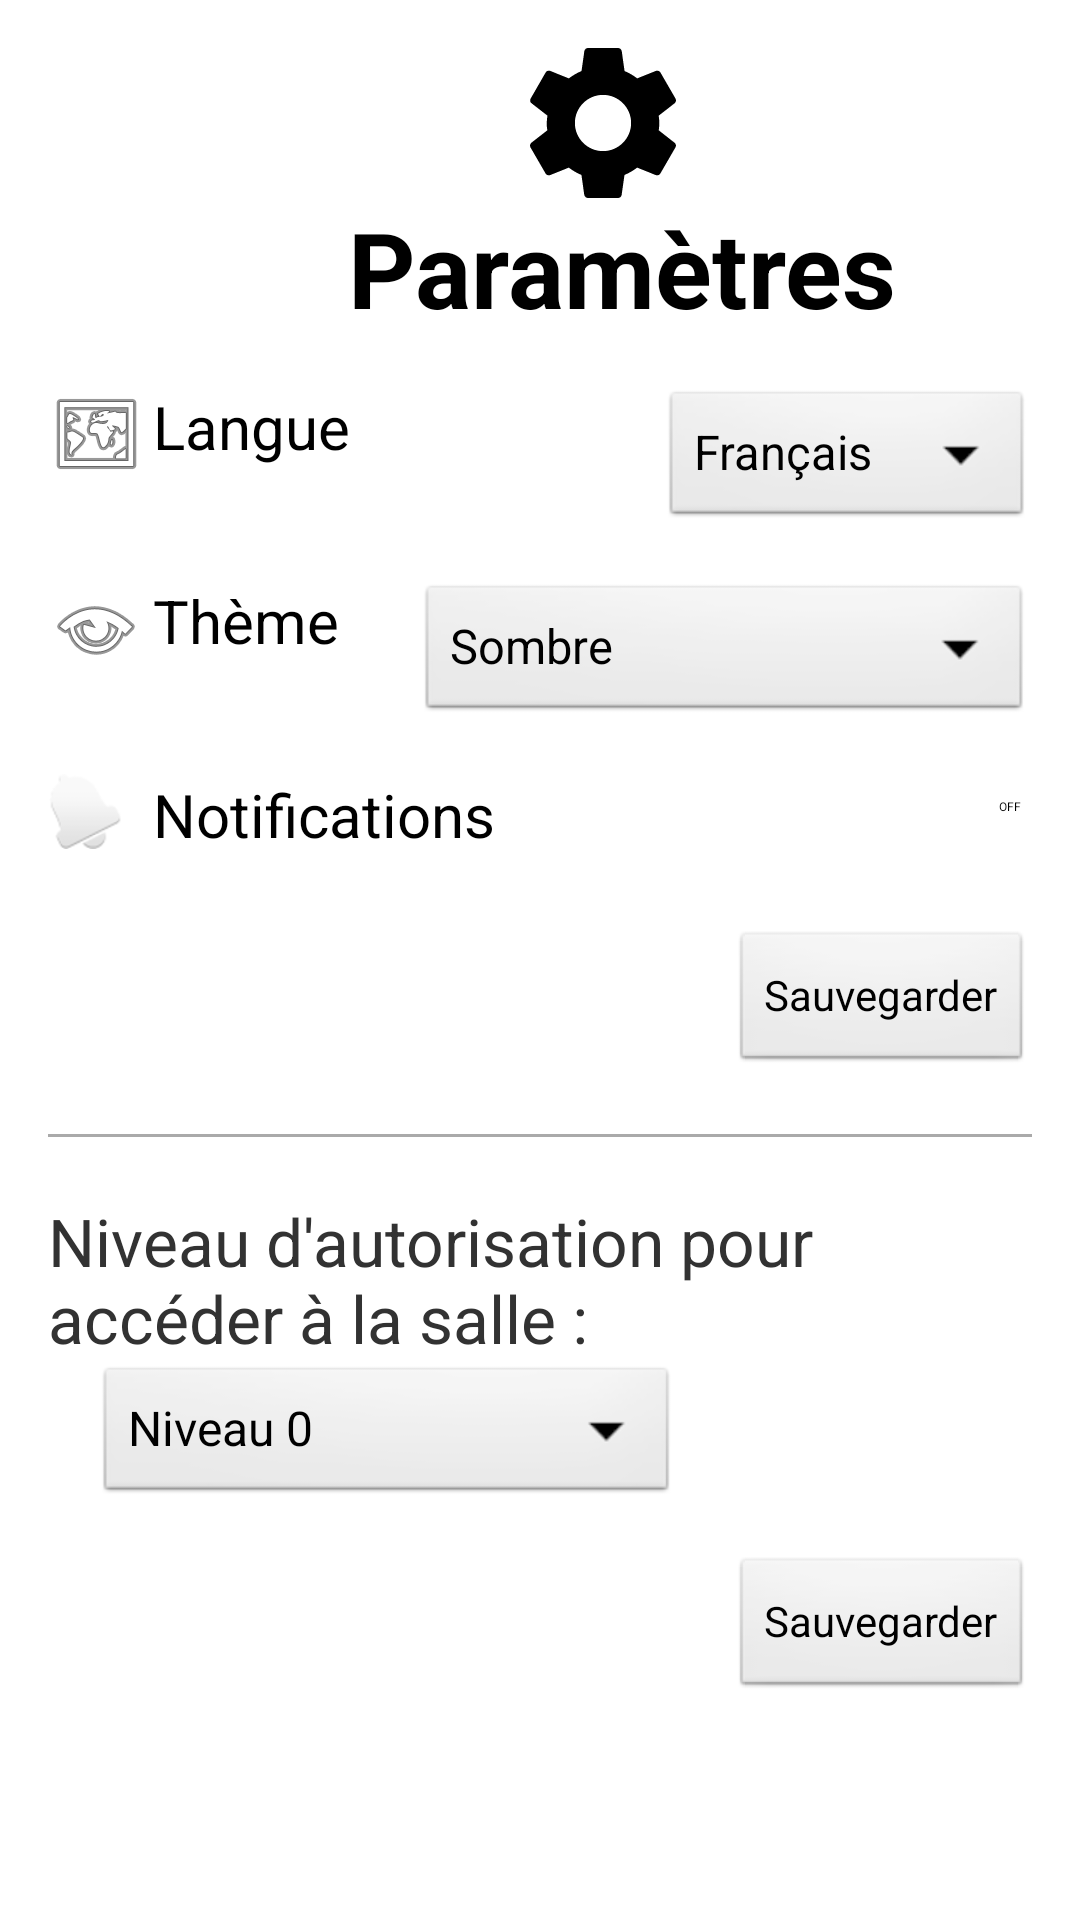

Screen size 1080w x 1920h. Icon name, then its center in pixels as (x,y):
mapmode: (96,434)
settings: (603,123)
view: (96,630)
